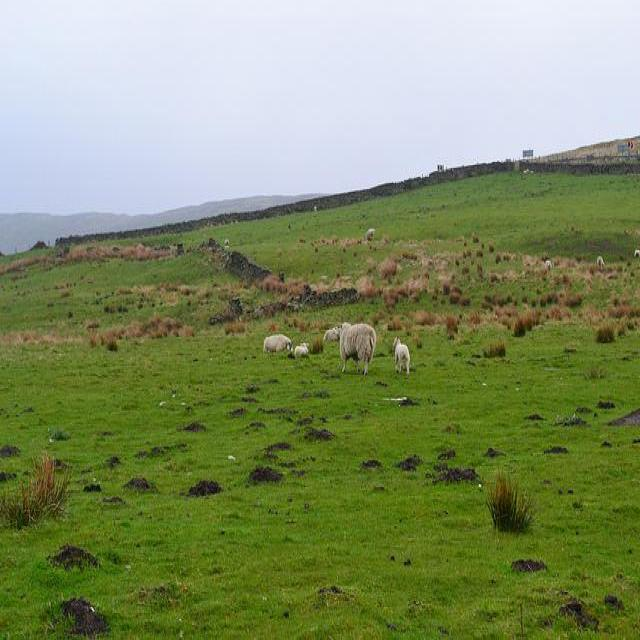Sheep: (340, 324, 376, 376)
